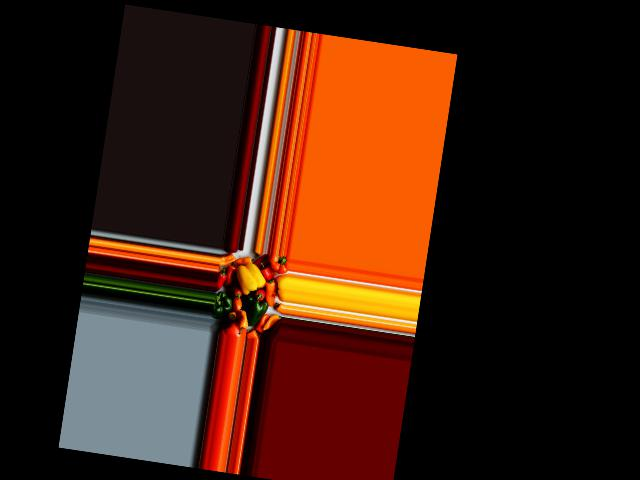bell_pepper: (214, 267, 230, 290)
